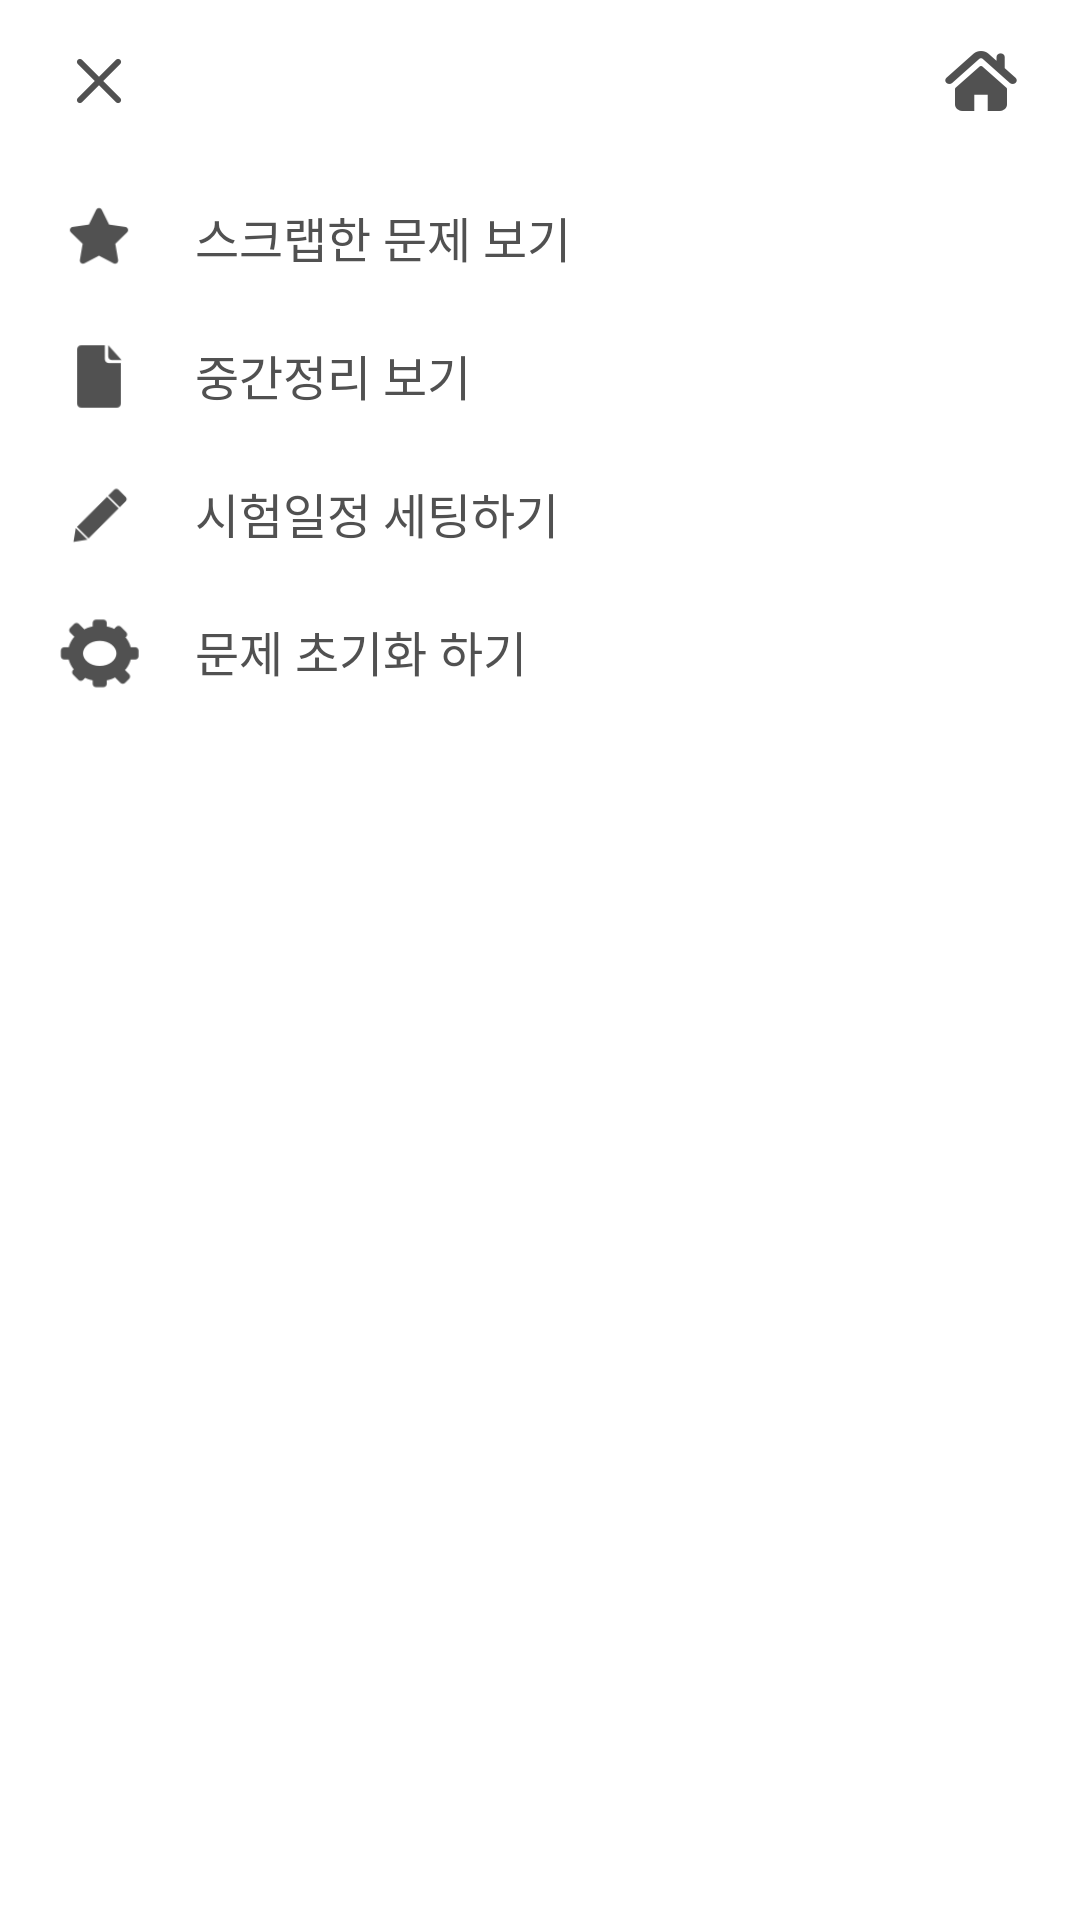

Icon bounding boxes for this 1080*1920 phone screenshot, format box(x1, y1, x2, y2):
cancel: box(77, 59, 121, 103)
document: box(77, 345, 121, 408)
home: box(945, 51, 1017, 111)
pencil: box(73, 488, 127, 542)
setting: box(60, 619, 139, 688)
star: box(69, 208, 129, 264)
